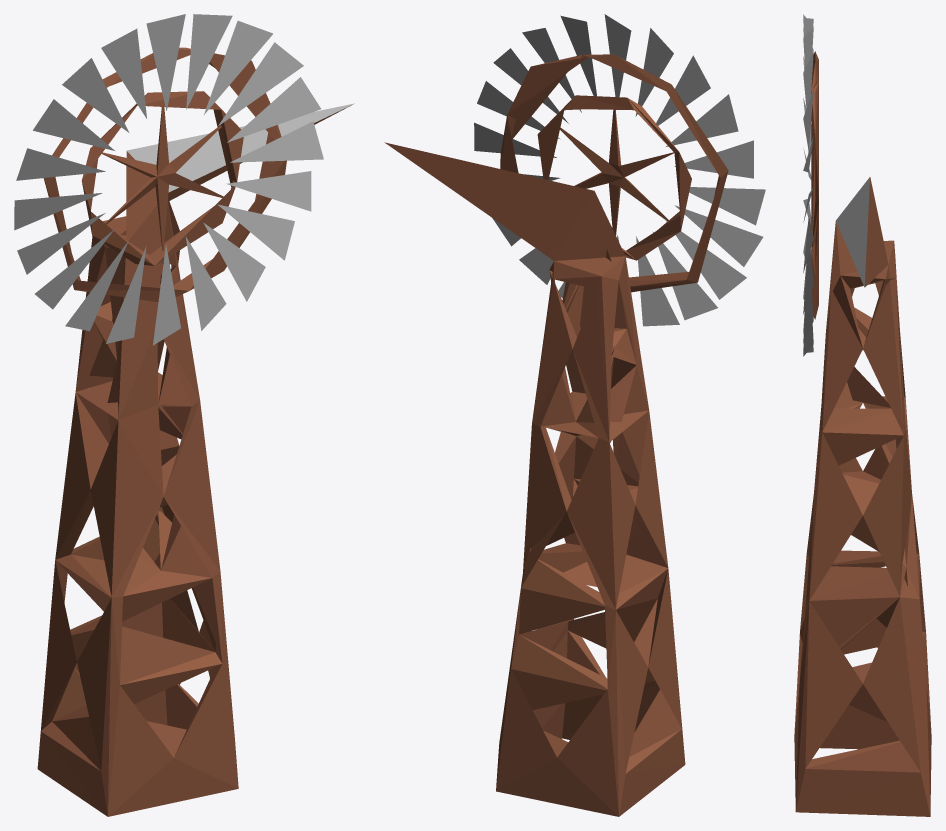
File: Windmill.lod2.glb
The picture shows the model from 3 angles, left to right: view 1: azimuth 30°, elevation 25°; view 2: azimuth 150°, elevation 25°; view 3: azimuth 270°, elevation 25°; orthographic projection. The views are drawn at different scales.
Visible parts, largest first — view 1: Windmill, Windmill_Blades; view 2: Windmill, Windmill_Blades; view 3: Windmill, Windmill_Blades.
Part boxes in pixels (x1,y1,x2,y2): Windmill: [37, 103, 354, 816]; Windmill_Blades: [14, 14, 323, 345]; Windmill: [384, 142, 685, 816]; Windmill_Blades: [474, 14, 765, 326]; Windmill: [794, 177, 931, 816]; Windmill_Blades: [803, 14, 818, 356].
Size of the model in its own units: 5.44 by 10.99 by 1.81.
